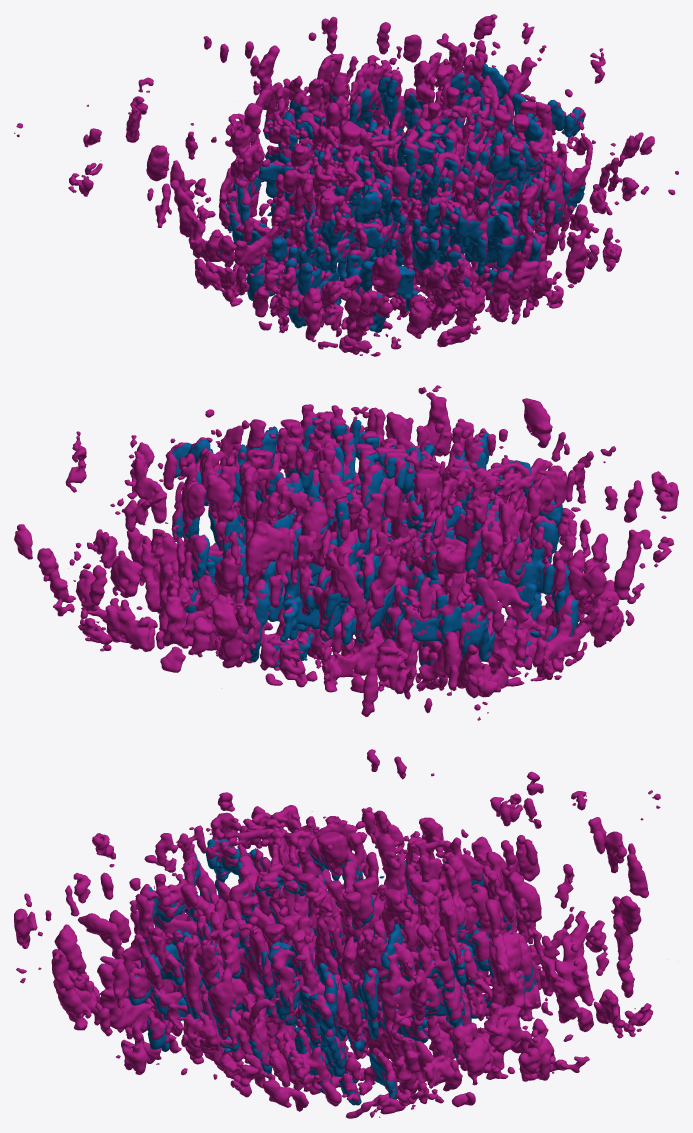
File: DMSO_96HR.glb
3 views of the same model, one above another, from view 1: azimuth 30°, elevation 25°; view 2: azimuth 150°, elevation 25°; view 3: azimuth 270°, elevation 25° (orthographic). The views are drawn at different scales.
Parts seen in each view (by area): view 1: dmso_96_tmre, dmos_96_mito; view 2: dmso_96_tmre, dmos_96_mito; view 3: dmso_96_tmre, dmos_96_mito.
Boxes of the visible parts, x1,y1,x2,y2 form: dmso_96_tmre: (14,14,678,356); dmos_96_mito: (220,64,585,332); dmso_96_tmre: (14,385,678,720); dmos_96_mito: (172,417,578,667); dmso_96_tmre: (14,749,660,1118); dmos_96_mito: (128,839,536,1105).
Size of the model in its own units: 40.67 by 15.86 by 42.32.
